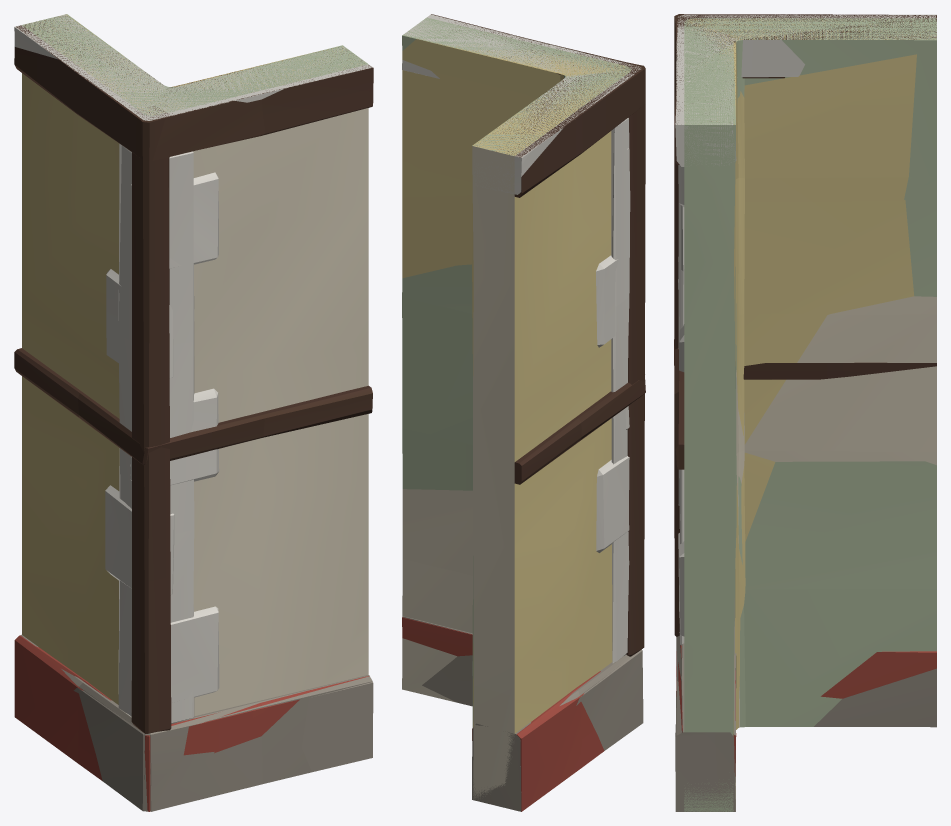
Rendered from corner.outer.glb.
3 renders of one model, left to right at view 1: azimuth 30°, elevation 25°; view 2: azimuth 150°, elevation 25°; view 3: azimuth 270°, elevation 25°, orthographic. The views are drawn at different scales.
Parts seen in each view (by area): view 1: corner.outer.v2.mesh, corner.outer.v1.mesh, corner.outer.v0.mesh; view 2: corner.outer.v1.mesh, corner.outer.v2.mesh, corner.outer.v0.mesh; view 3: corner.outer.v0.mesh, corner.outer.v1.mesh, corner.outer.v2.mesh.
Boxes of the visible parts, x1=… form: corner.outer.v2.mesh: x1=14, y1=15, x2=372, y2=811; corner.outer.v1.mesh: x1=14, y1=14, x2=373, y2=811; corner.outer.v0.mesh: x1=14, y1=14, x2=373, y2=811; corner.outer.v1.mesh: x1=402, y1=14, x2=645, y2=811; corner.outer.v2.mesh: x1=402, y1=20, x2=635, y2=811; corner.outer.v0.mesh: x1=402, y1=14, x2=643, y2=750; corner.outer.v0.mesh: x1=675, y1=14, x2=936, y2=811; corner.outer.v1.mesh: x1=674, y1=14, x2=936, y2=776; corner.outer.v2.mesh: x1=676, y1=14, x2=936, y2=811.
Size of the model in its own units: 1.04 by 3 by 1.04.
